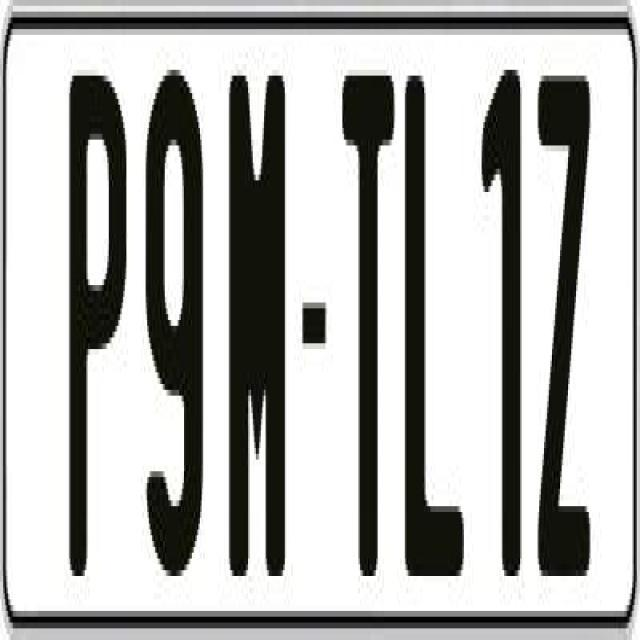1: (476, 64, 524, 570)
9: (141, 70, 205, 576)
L: (400, 64, 467, 576)
M: (224, 64, 286, 582)
P: (67, 70, 133, 570)
T: (341, 76, 397, 594)
Z: (538, 76, 598, 612)
